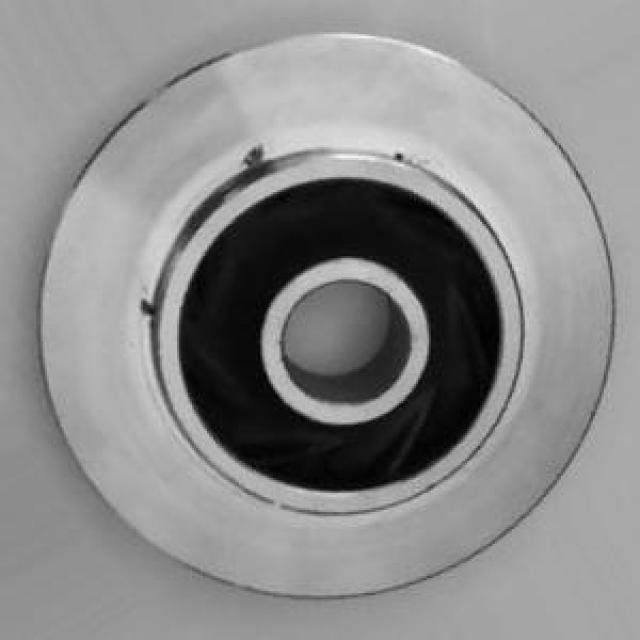Defect: (240, 138, 284, 171)
